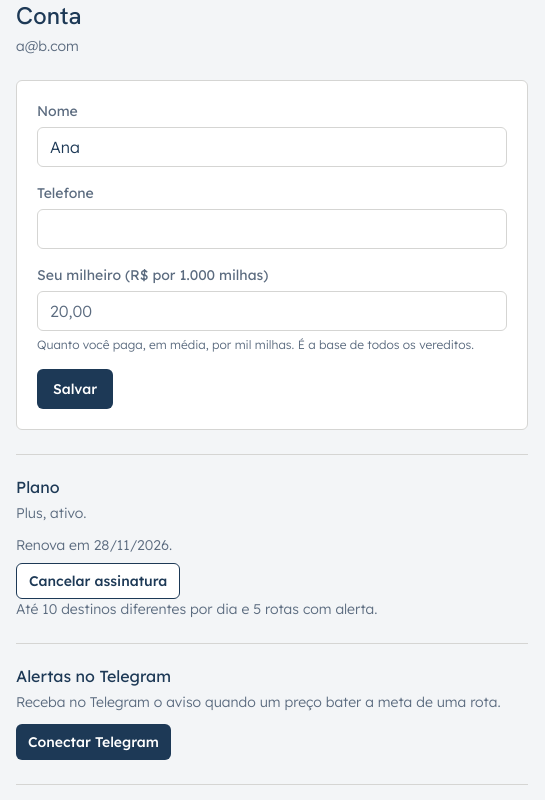
Conta: Telegram › abre o bot com o link de vínculo e explica o próximo passo
Click the button "Conectar Telegram": (93,742) [16,724,171,760]
(page scrolled)
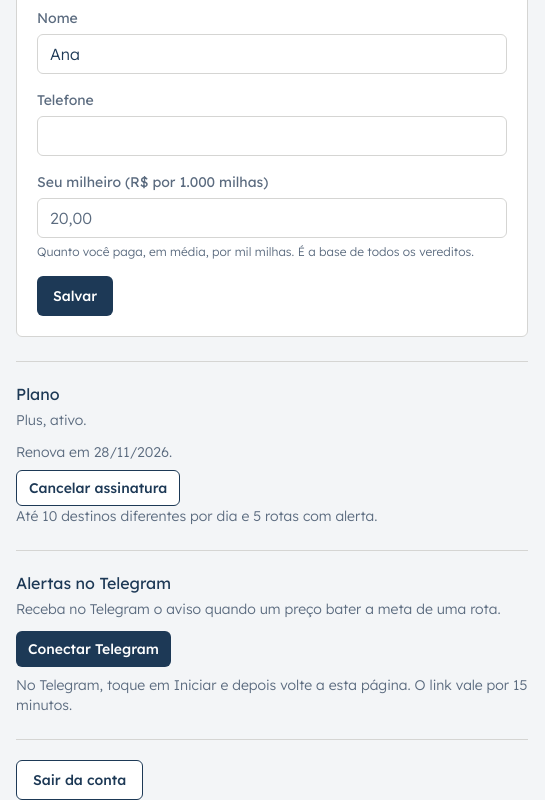
expect the text "toque em Iniciar" is shown: met, box [16,676,527,714]
